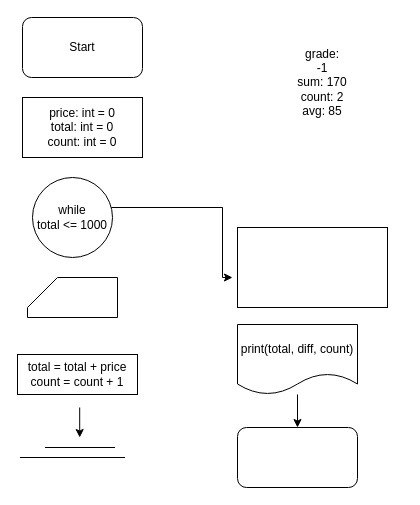
This 420x505 diagram has some shape labels left out. The shapes that lost their labels are listed below. From the top down, each one's centre as x and y in pixels, then its label:
the point at 312,267: diff: int = total - 1,000
the point at 72,297: input price
the point at 297,457: Stop
